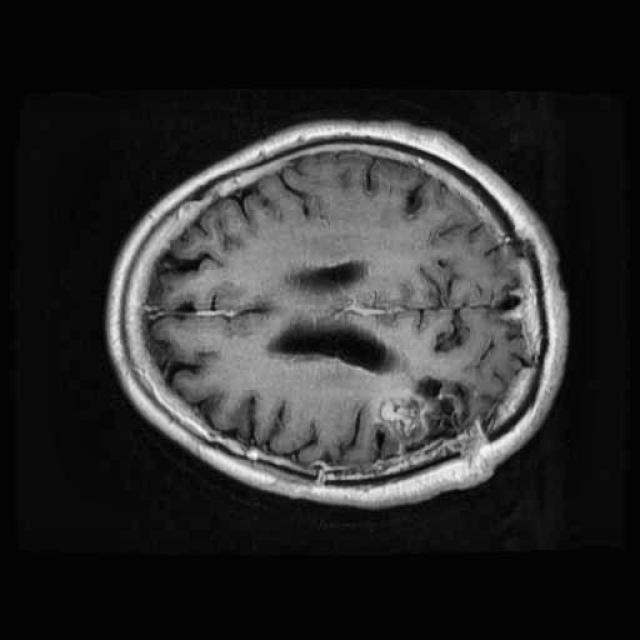Non-Tumor: (364, 352, 488, 469)
